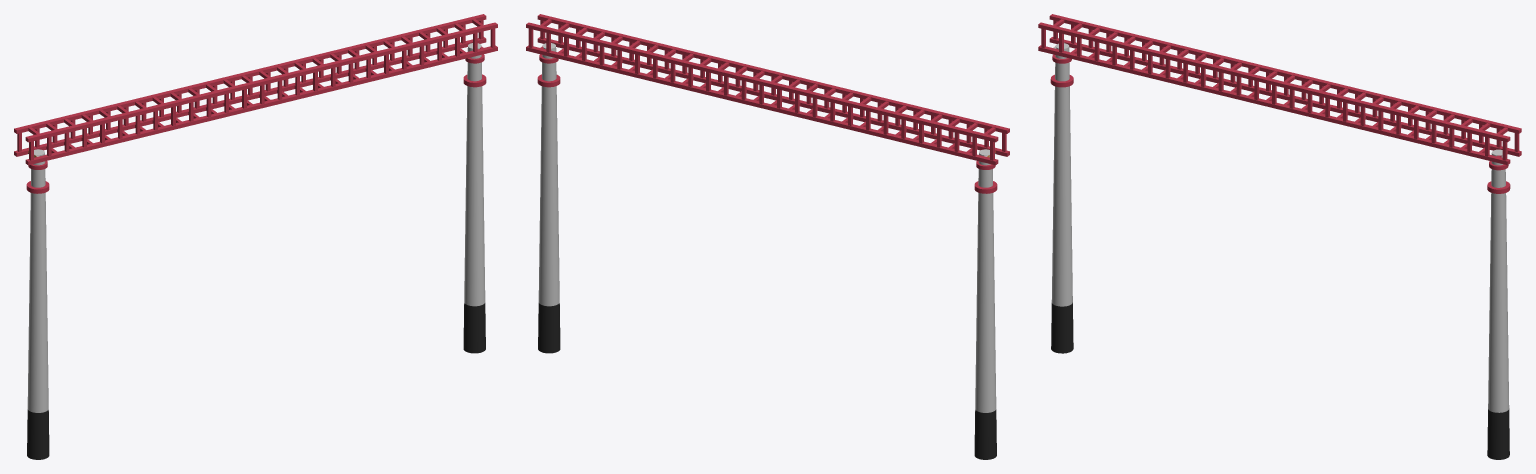
File: Railway (Pillar).fbx
3 renders of one model, left to right at view 1: azimuth 30°, elevation 25°; view 2: azimuth 150°, elevation 25°; view 3: azimuth 330°, elevation 25°, orthographic.
Parts seen in each view (by area): view 1: Railway (Pillar); view 2: Railway (Pillar); view 3: Railway (Pillar).
Part boxes in pixels (x1,y1,x2,y2): Railway (Pillar): (14, 14, 497, 459); Railway (Pillar): (526, 14, 1009, 459); Railway (Pillar): (1038, 14, 1521, 459).
Size of the model in its own units: 5291 by 3506 by 276.
